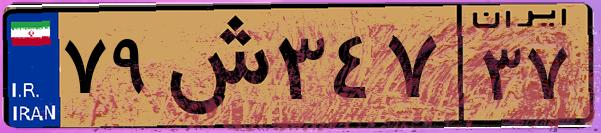3: (270, 28, 330, 110), (475, 38, 525, 113)
4: (330, 28, 385, 110)
7: (385, 28, 445, 110), (57, 26, 110, 100), (525, 38, 570, 115)
9: (110, 28, 158, 98)
ش: (158, 12, 270, 120)
